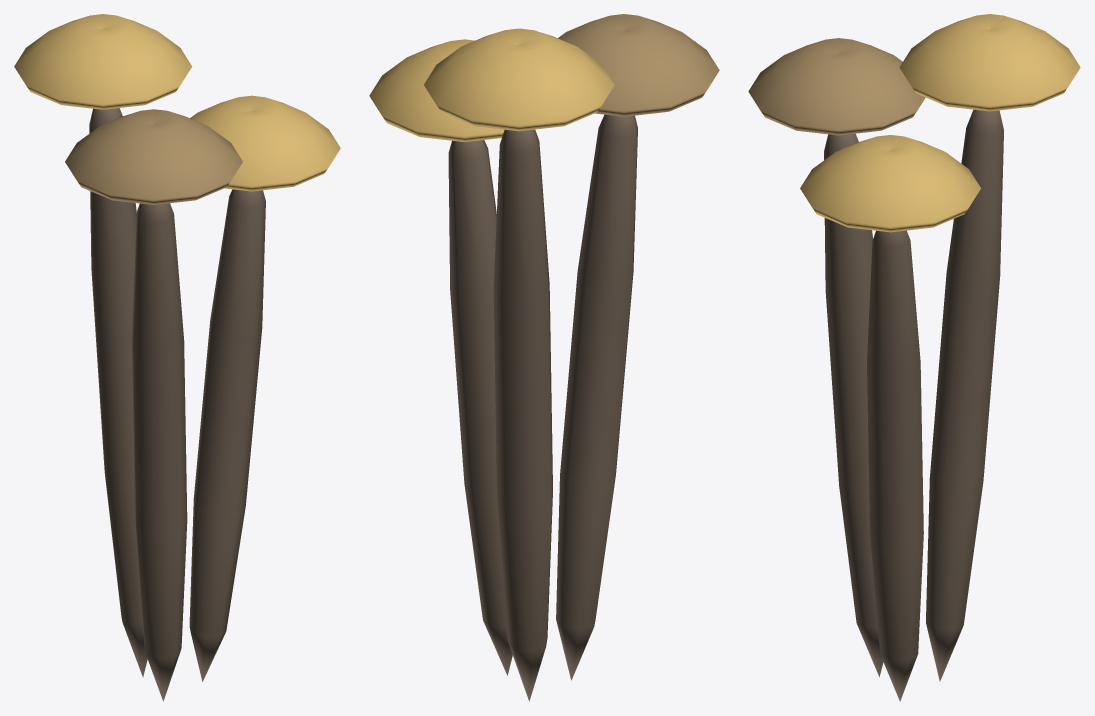
The model's file is tree-heatStalk.glb.
3 renders of one model, left to right at view 1: azimuth 30°, elevation 25°; view 2: azimuth 150°, elevation 25°; view 3: azimuth 270°, elevation 25°, orthographic. The views are drawn at different scales.
Visible parts, largest first — view 1: succulent-2, root-succulent, succulent-4, parasol-5, parasol-3, parasol-1; view 2: succulent-4, succulent-2, root-succulent, parasol-5, parasol-3, parasol-1; view 3: succulent-4, root-succulent, succulent-2, parasol-1, parasol-5, parasol-3.
Boxes of the visible parts, box(x1,y1,x2,y2) form: succulent-2: box(132, 203, 187, 701); root-succulent: box(189, 189, 265, 681); succulent-4: box(89, 108, 147, 677); parasol-5: box(14, 14, 192, 109); parasol-3: box(65, 109, 242, 204); parasol-1: box(190, 95, 340, 191); succulent-4: box(493, 129, 552, 701); succulent-2: box(556, 114, 637, 680); root-succulent: box(448, 140, 512, 675); parasol-5: box(424, 28, 614, 131); parasol-3: box(558, 14, 719, 116); parasol-1: box(369, 39, 504, 142); succulent-4: box(926, 109, 1003, 681); root-succulent: box(867, 230, 923, 701); succulent-2: box(824, 133, 883, 677); parasol-1: box(800, 135, 980, 232); parasol-5: box(899, 14, 1080, 111); parasol-3: box(748, 38, 925, 135).
Bounding box in the file's own units: 1.98 × 4.36 × 2.02.
